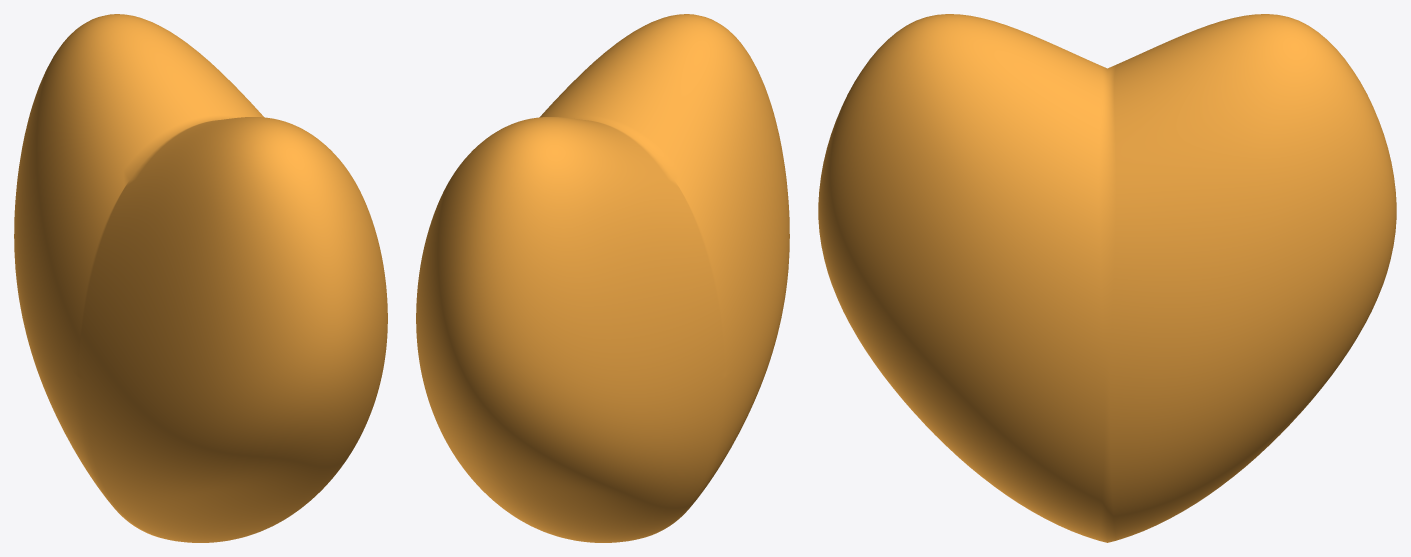
The model's file is Herzbonbon.fbx.
The picture shows the model from 3 angles, left to right: view 1: azimuth 30°, elevation 25°; view 2: azimuth 150°, elevation 25°; view 3: azimuth 270°, elevation 25°; orthographic projection. The views are drawn at different scales.
Visible parts, largest first — view 1: Herzbonbon gold; view 2: Herzbonbon gold; view 3: Herzbonbon gold.
Boxes of the visible parts, x1,y1,x2,y2 form: Herzbonbon gold: (14, 14, 387, 542); Herzbonbon gold: (416, 14, 789, 542); Herzbonbon gold: (818, 14, 1396, 542).
Size of the model in its own units: 63.05 by 107 by 111.
